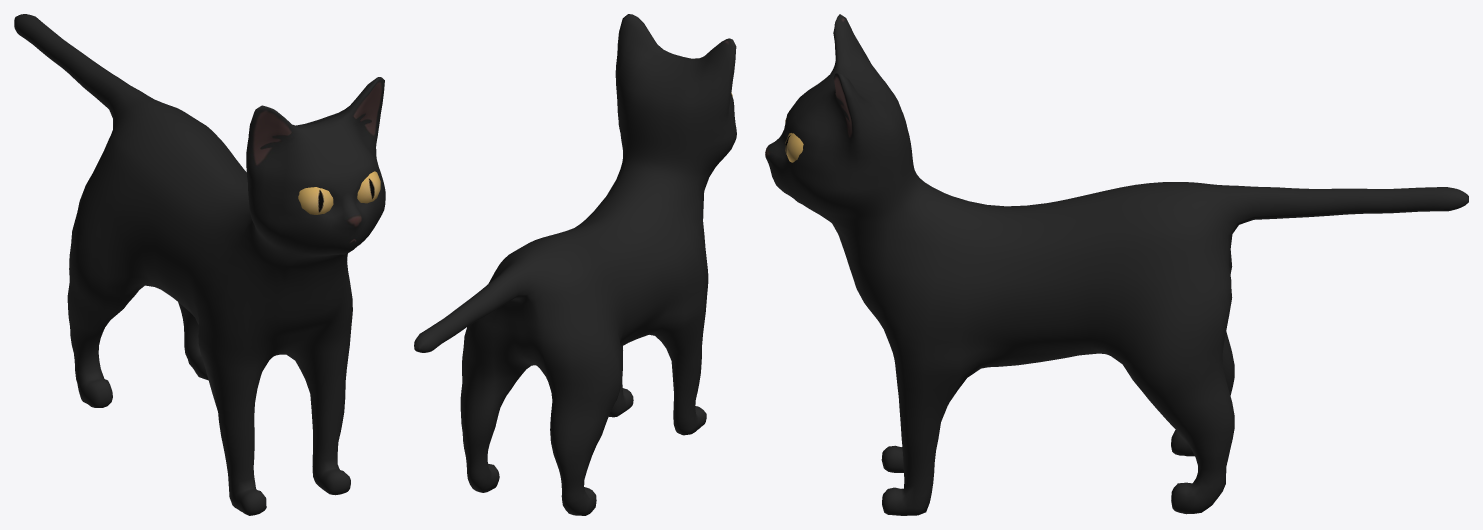
File: ramenHologram.gltf
3 renders of one model, left to right at view 1: azimuth 30°, elevation 25°; view 2: azimuth 150°, elevation 25°; view 3: azimuth 270°, elevation 25°, orthographic. The views are drawn at different scales.
Parts seen in each view (by area): view 1: Cube.001; view 2: Cube.001; view 3: Cube.001.
Boxes of the visible parts, x1,y1,x2,y2 form: Cube.001: (14, 14, 385, 515); Cube.001: (414, 14, 736, 515); Cube.001: (765, 14, 1468, 515).
Size of the model in its own units: 57.19 by 137 by 196.
1 material, 1 textured.
